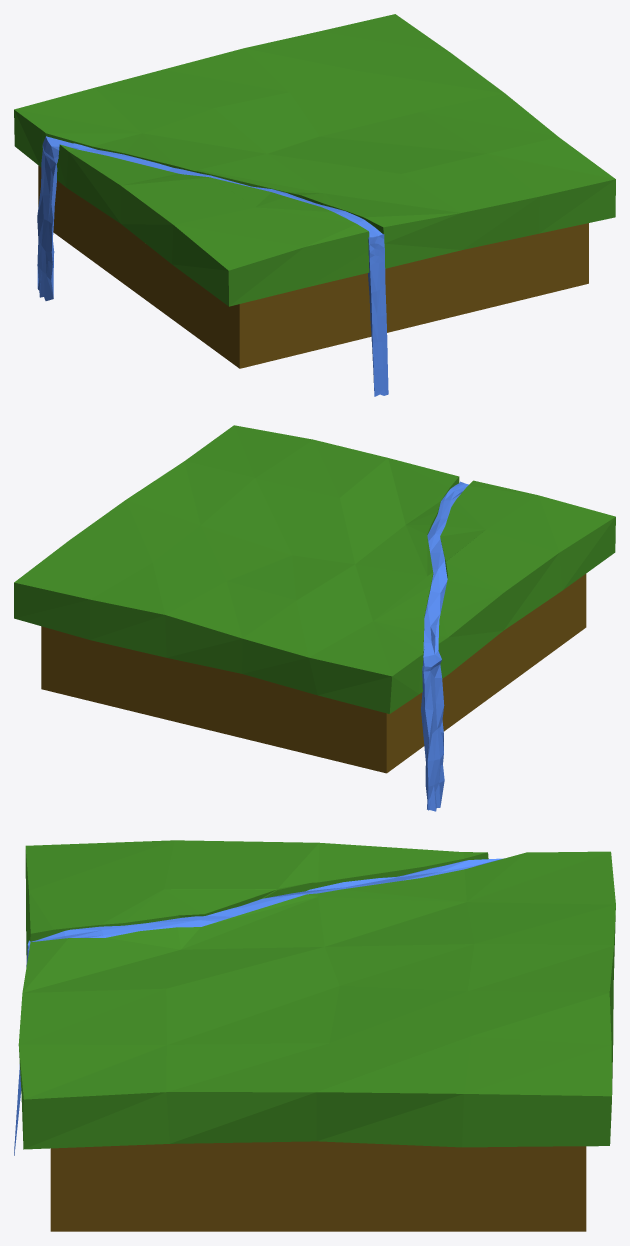
Rendered from environment.dae.
3 renders of one model, top to bottom at view 1: azimuth 30°, elevation 25°; view 2: azimuth 150°, elevation 25°; view 3: azimuth 270°, elevation 25°, orthographic. The views are drawn at different scales.
Visible parts, largest first — view 1: Grass_col, Bedrock, Water_col; view 2: Grass_col, Bedrock, Water_col; view 3: Grass_col, Bedrock, Water_col.
Part boxes in pixels (left/top/right/bottom): Grass_col: left=14, top=14, right=615, bottom=306; Bedrock: left=38, top=165, right=588, bottom=368; Water_col: left=37, top=136, right=388, bottom=396; Grass_col: left=14, top=425, right=615, bottom=713; Bedrock: left=41, top=574, right=586, bottom=773; Water_col: left=421, top=481, right=468, bottom=811; Grass_col: left=18, top=840, right=615, bottom=1149; Bedrock: left=50, top=1141, right=586, bottom=1231; Water_col: left=14, top=858, right=503, bottom=1155.
Bounding box in the file's own units: 56.12 × 56.21 × 22.94.
